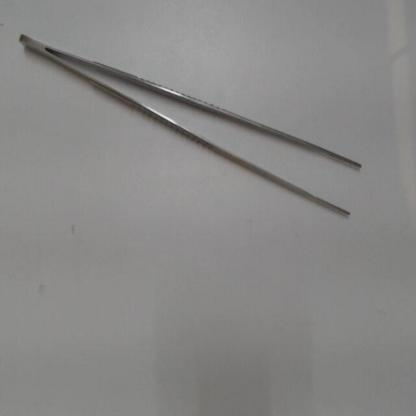DeBakey Dissector: (18, 25, 380, 232)
